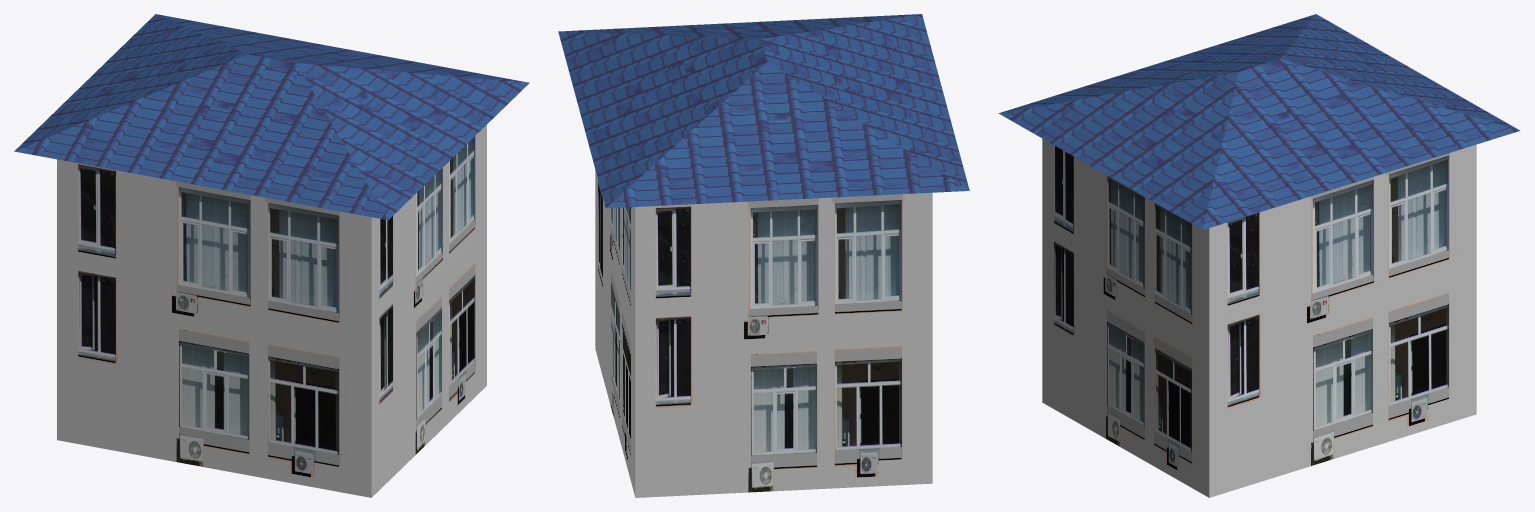
The picture shows the model from 3 angles, left to right: view 1: azimuth 30°, elevation 25°; view 2: azimuth 150°, elevation 25°; view 3: azimuth 270°, elevation 25°; orthographic projection. The views are drawn at different scales.
Visible parts, largest first — view 1: CityEngineMaterial_9_m, CityEngineMaterial_10_m; view 2: CityEngineMaterial_9_m, CityEngineMaterial_10_m; view 3: CityEngineMaterial_9_m, CityEngineMaterial_10_m.
Boxes of the visible parts, left/top/right/bottom form: CityEngineMaterial_9_m: left=57, top=125, right=486, bottom=497; CityEngineMaterial_10_m: left=14, top=14, right=529, bottom=220; CityEngineMaterial_9_m: left=595, top=170, right=932, bottom=497; CityEngineMaterial_10_m: left=558, top=14, right=969, bottom=208; CityEngineMaterial_9_m: left=1042, top=138, right=1476, bottom=497; CityEngineMaterial_10_m: left=999, top=14, right=1520, bottom=229.
Bounding box in the file's own units: 15.25 × 11.29 × 15.57.
